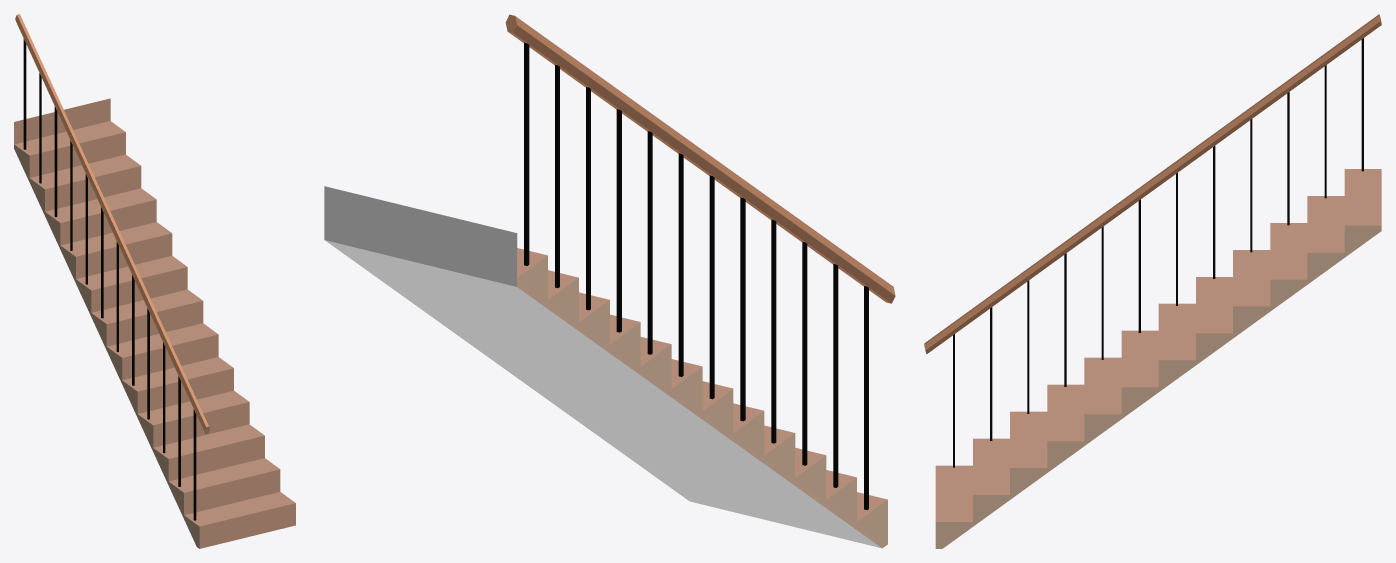
The model's file is sweethome3d-contributions-straight-staircase-453.glb.
3 views of the same model, side by side, from view 1: azimuth 30°, elevation 25°; view 2: azimuth 150°, elevation 25°; view 3: azimuth 270°, elevation 25° (orthographic). The views are drawn at different scales.
Parts seen in each view (by area): view 1: 1_1, Cube.010, 1_1.001, 3_3; view 2: 4_4, 1_1, Cube.010, 3_3, 1_1.001; view 3: 1_1, 3_3, 1_1.001, Cube.010.
Boxes of the visible parts, x1,y1,x2,y2 form: 1_1: (14,98,295,548); Cube.010: (23,39,196,520); 1_1.001: (15,14,209,434); 3_3: (14,144,199,548); 4_4: (325,240,881,548); 1_1: (324,186,887,521); Cube.010: (524,42,868,509); 3_3: (517,256,887,548); 1_1.001: (505,14,895,303); 1_1: (935,169,1381,521); 3_3: (935,225,1381,548); 1_1.001: (924,14,1381,354); Cube.010: (953,38,1363,467).
Size of the model in its own units: 90 by 356 by 308.
